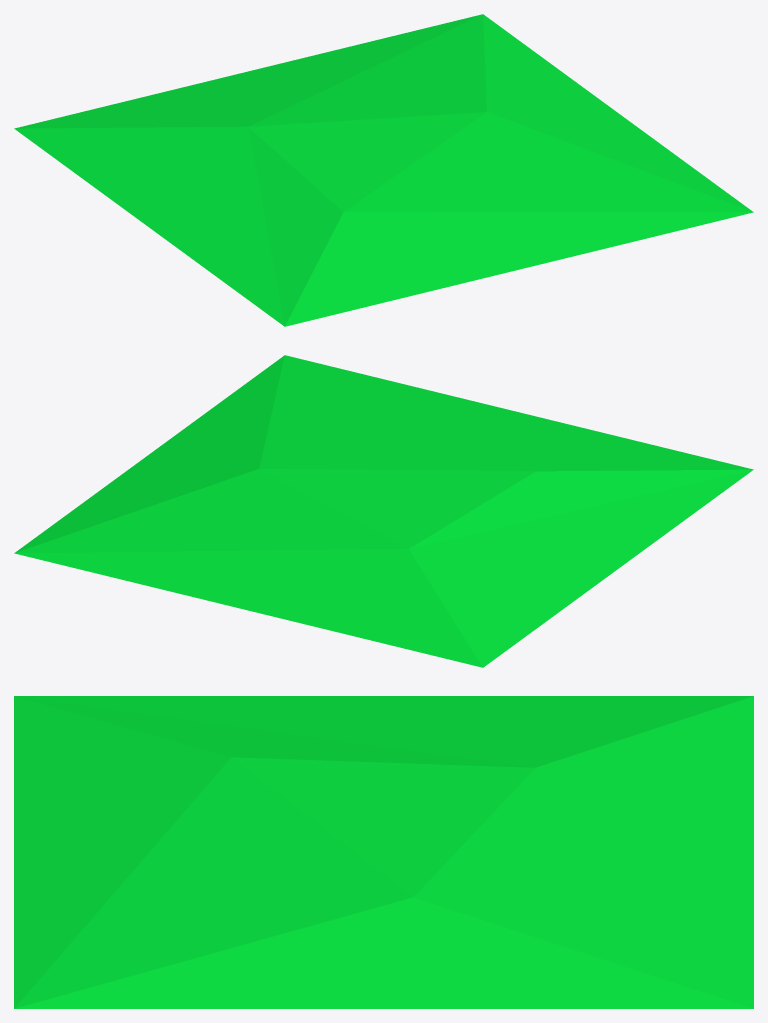
The model's file is Grass1.fbx.
3 renders of one model, top to bottom at view 1: azimuth 30°, elevation 25°; view 2: azimuth 150°, elevation 25°; view 3: azimuth 270°, elevation 25°, orthographic. The views are drawn at different scales.
Parts seen in each view (by area): view 1: Grass1; view 2: Grass1; view 3: Grass1.
Part boxes in pixels (x1=…): Grass1: x1=14, y1=14, x2=753, y2=326; Grass1: x1=14, y1=355, x2=753, y2=667; Grass1: x1=14, y1=696, x2=753, y2=1008.
Size of the model in its own units: 1 by 0.0464 by 1.
